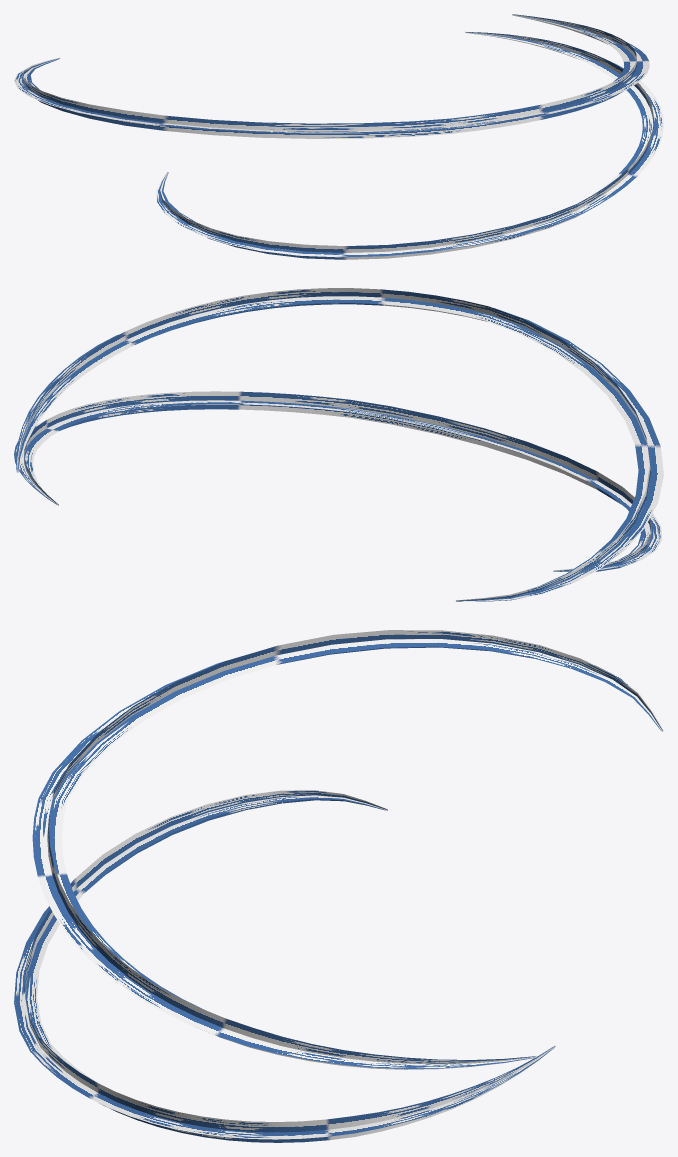
Rendered from Rui_Line6.fbx.
3 views of the same model, one above another, from view 1: azimuth 30°, elevation 25°; view 2: azimuth 150°, elevation 25°; view 3: azimuth 270°, elevation 25° (orthographic). The views are drawn at different scales.
Parts seen in each view (by area): view 1: SM_e_Plc_P1007_Line006; view 2: SM_e_Plc_P1007_Line006; view 3: SM_e_Plc_P1007_Line006.
Boxes of the visible parts, <box> form: SM_e_Plc_P1007_Line006: <box>14,14,663,259</box>; SM_e_Plc_P1007_Line006: <box>14,288,663,601</box>; SM_e_Plc_P1007_Line006: <box>14,630,663,1142</box>.
Size of the model in its own units: 400 by 89.51 by 281.
